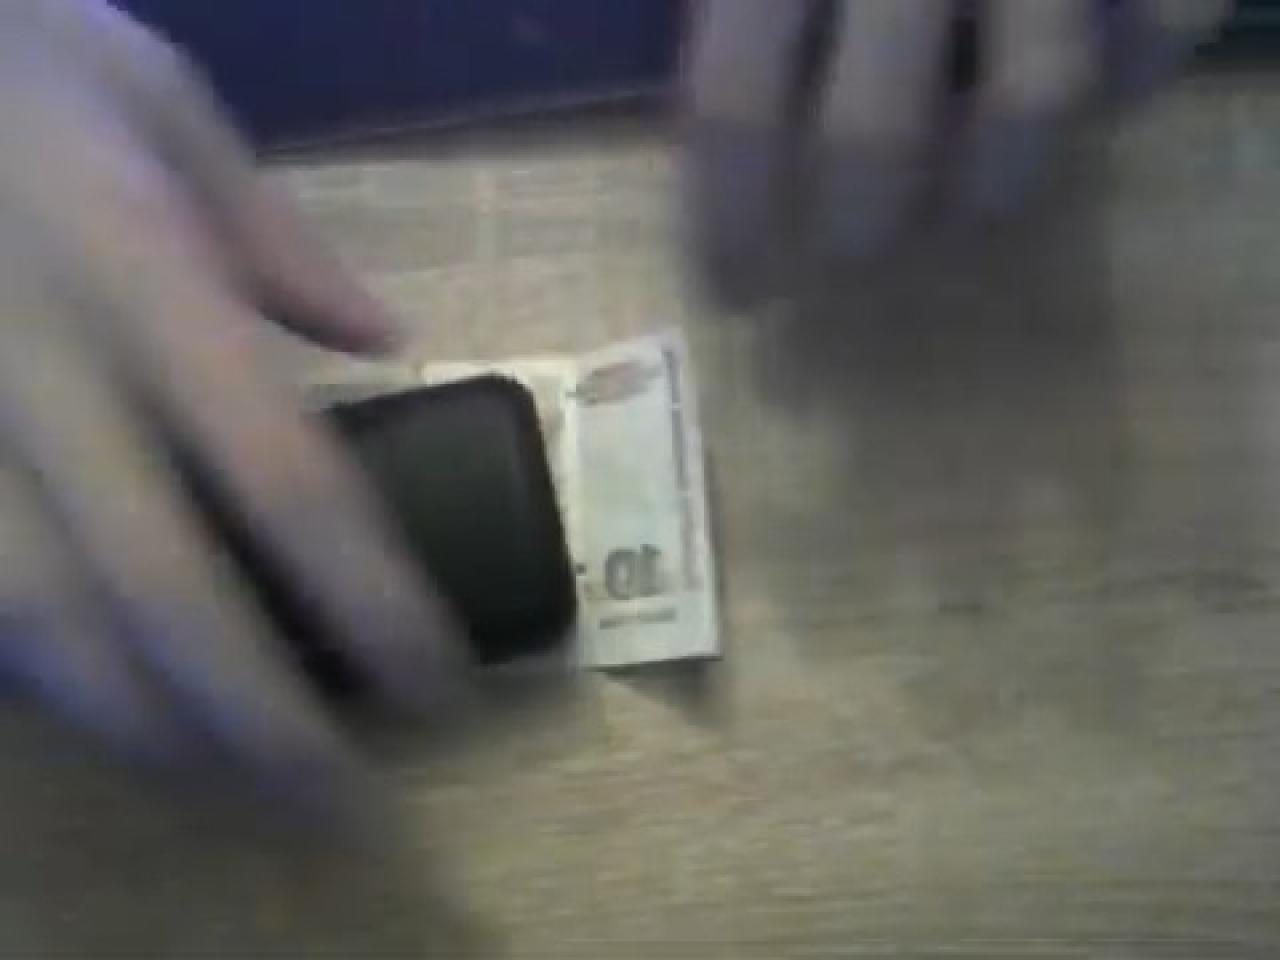10leva: (317, 334, 726, 672)
